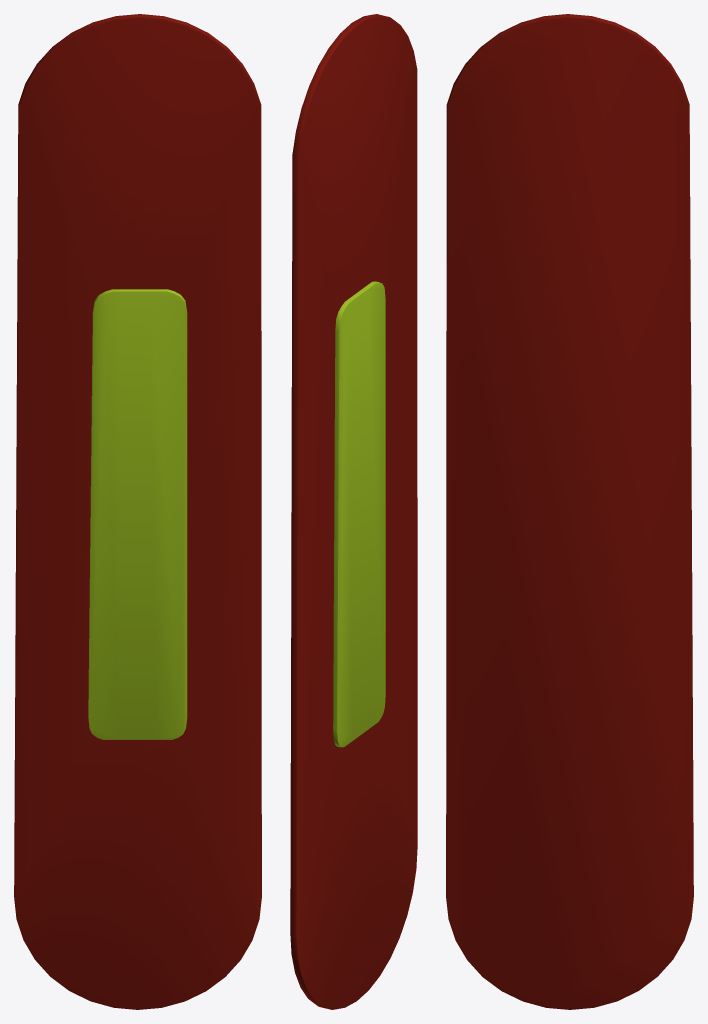
The model's file is Tirita 1.fbx.
3 renders of one model, left to right at view 1: azimuth 90°, elevation 25°; view 2: azimuth 150°, elevation 25°; view 3: azimuth 270°, elevation 25°, orthographic.
Parts seen in each view (by area): view 1: Cylinder020; view 2: Cylinder020; view 3: Cylinder020.
Part boxes in pixels (x1,y1,x2,y2): Cylinder020: (14,14,261,1009); Cylinder020: (290,14,417,1009); Cylinder020: (446,14,693,1009).
Size of the model in its own units: 0.0268 by 2.21 by 0.5.
